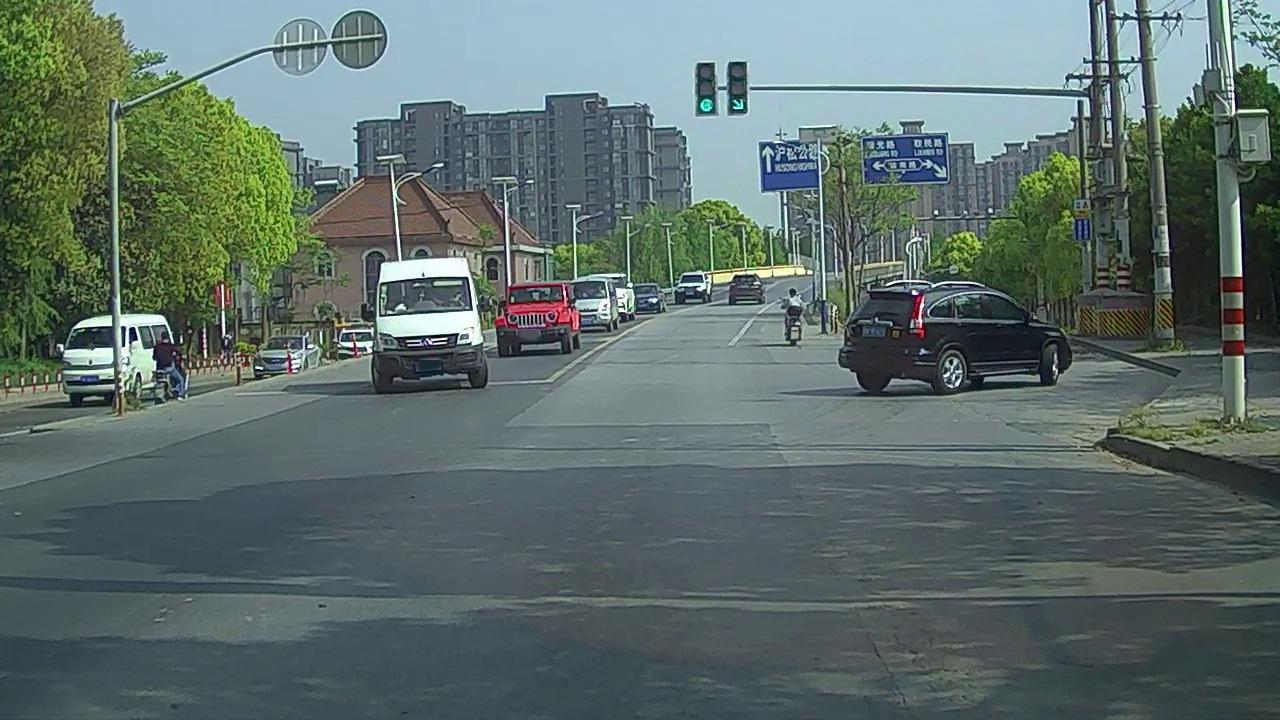traffic_light: (696, 62, 717, 114), (728, 61, 747, 114)
